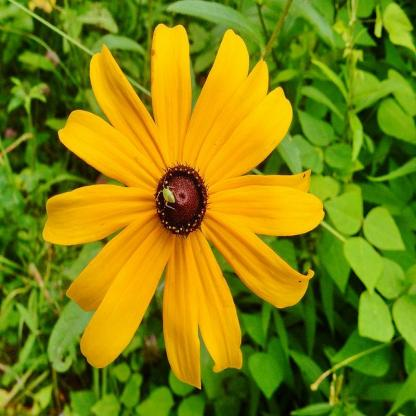aphid: (153, 178, 183, 211)
